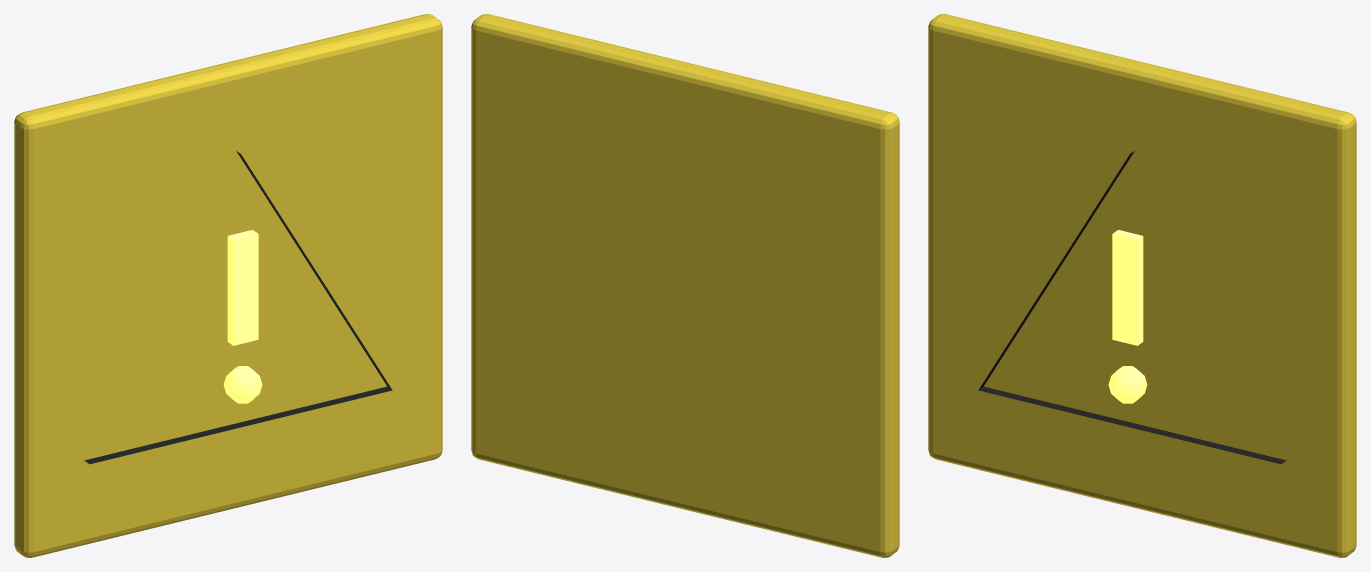
File: signage_hazard_plate.glb
The picture shows the model from 3 angles, left to right: view 1: azimuth 30°, elevation 25°; view 2: azimuth 150°, elevation 25°; view 3: azimuth 330°, elevation 25°; orthographic projection.
Parts seen in each view (by area): view 1: GD_signage_hazard_plate__m0, GD_signage_hazard_plate__m2, GD_signage_hazard_plate__m1; view 2: GD_signage_hazard_plate__m0; view 3: GD_signage_hazard_plate__m0, GD_signage_hazard_plate__m2, GD_signage_hazard_plate__m1.
Part boxes in pixels (x1,y1,x2,y2): GD_signage_hazard_plate__m0: (14,14,442,557); GD_signage_hazard_plate__m2: (223,230,262,403); GD_signage_hazard_plate__m1: (84,151,392,464); GD_signage_hazard_plate__m0: (471,14,899,557); GD_signage_hazard_plate__m0: (928,14,1356,557); GD_signage_hazard_plate__m2: (1108,230,1147,403); GD_signage_hazard_plate__m1: (978,151,1286,464).
Size of the model in its own units: 0.5 by 0.5 by 0.065.
